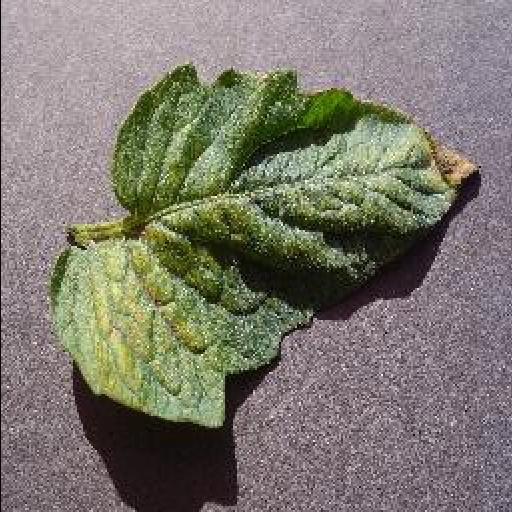disease_tomato: (45, 64, 483, 428)
